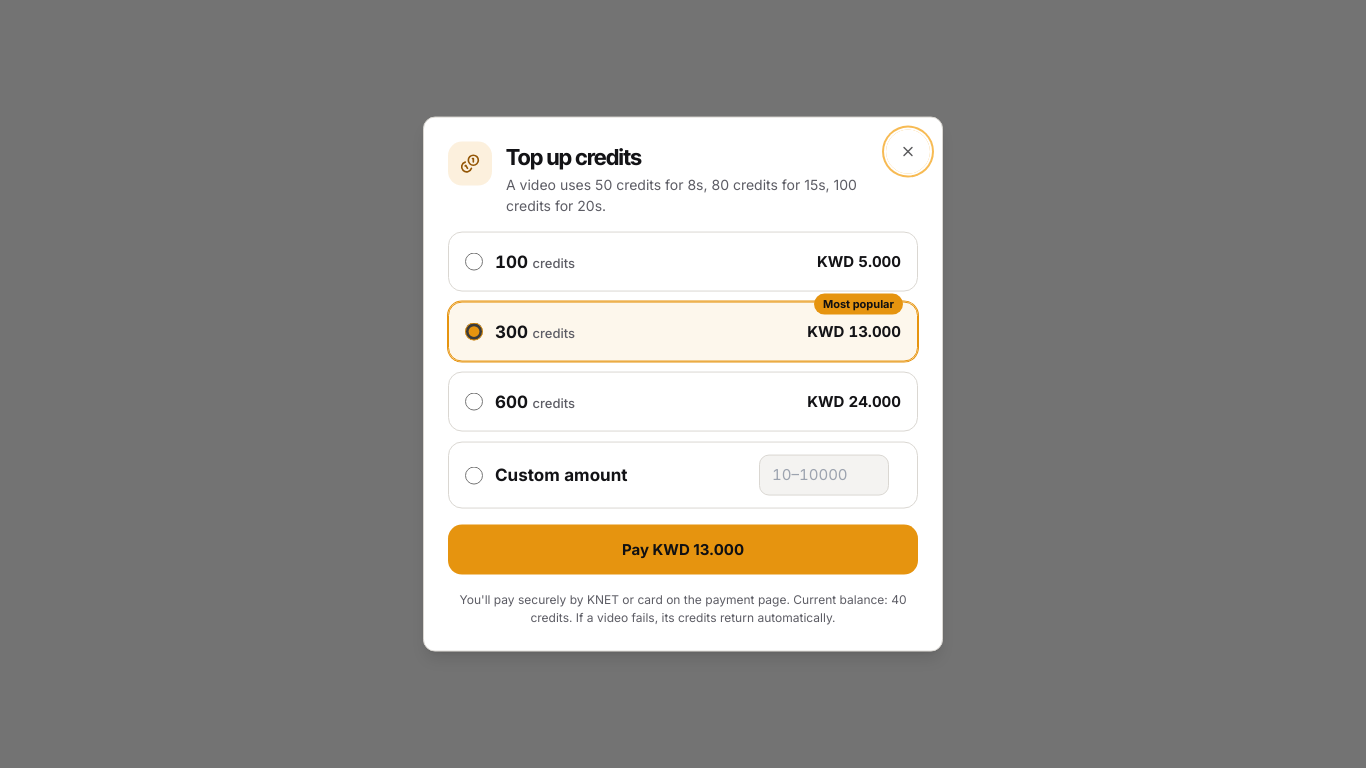
Test: TopUpDialog › prices a custom amount and opens the payment page in a new tab, keeping this tab signed in
Type "250" into the number field named "Credits to add" at [824, 475], box left=759, top=455, right=889, bottom=495
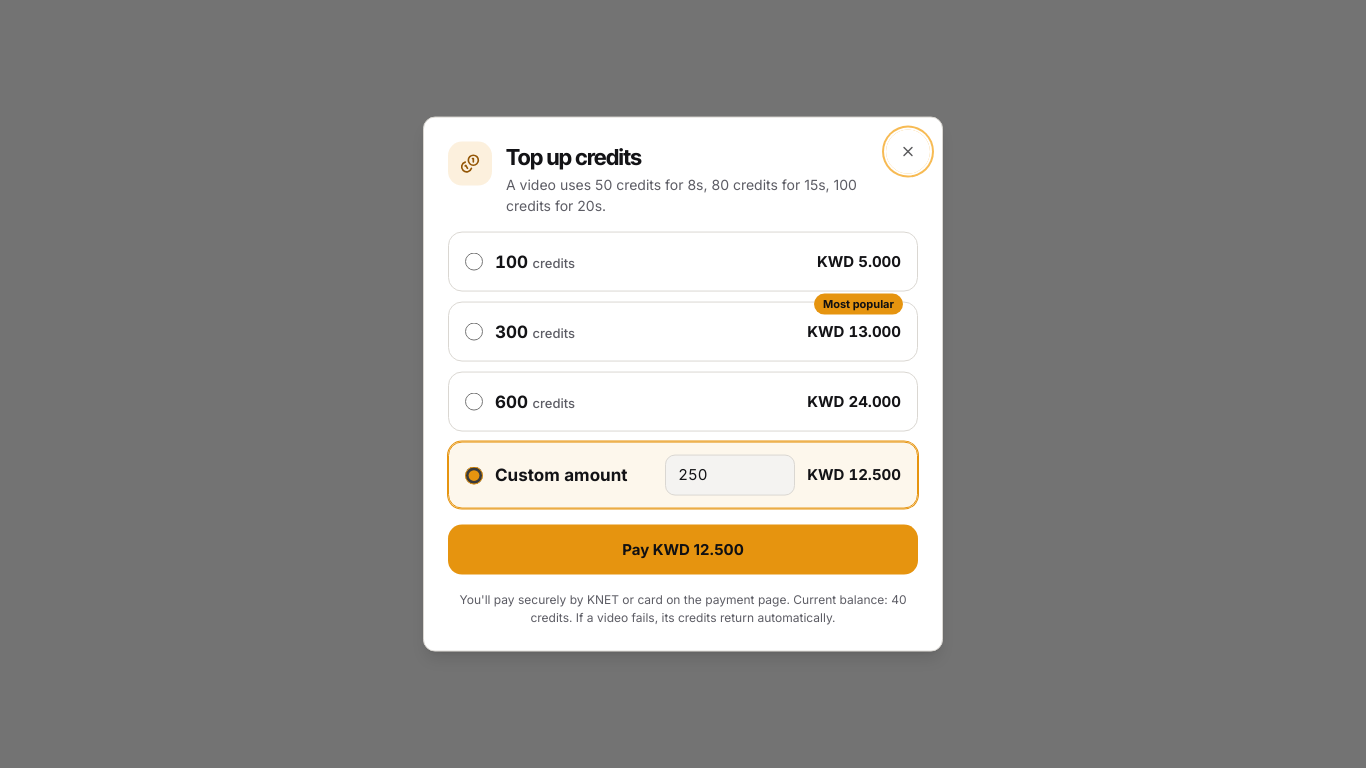
Check: the text "pay securely by KNET or card" is shown, box left=460, top=591, right=793, bottom=606
Check: the text "KWD 12.500" is shown, box left=807, top=464, right=901, bottom=486
Click the button "Pay KWD 12.500" at [683, 549], box left=448, top=524, right=918, bottom=574
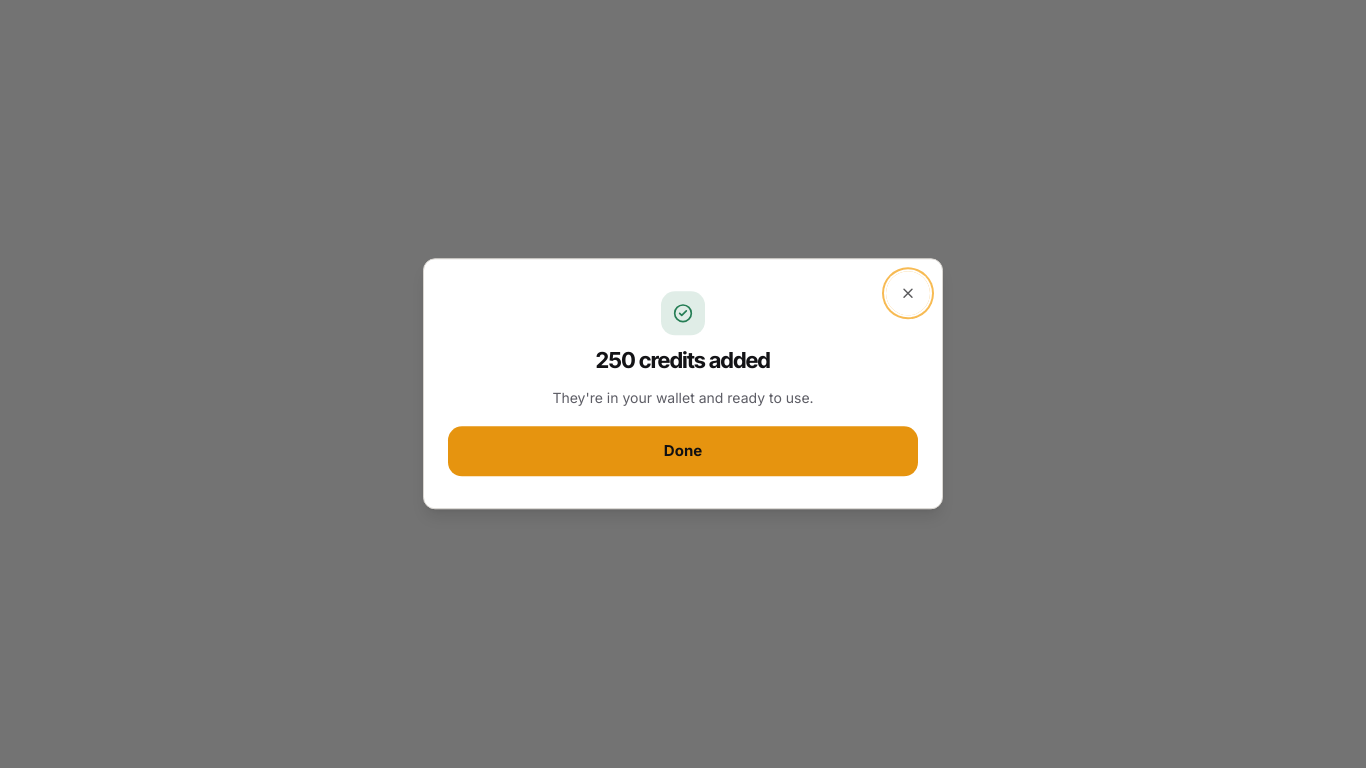
Check: the heading "250 credits added" is shown, box left=596, top=347, right=770, bottom=374
